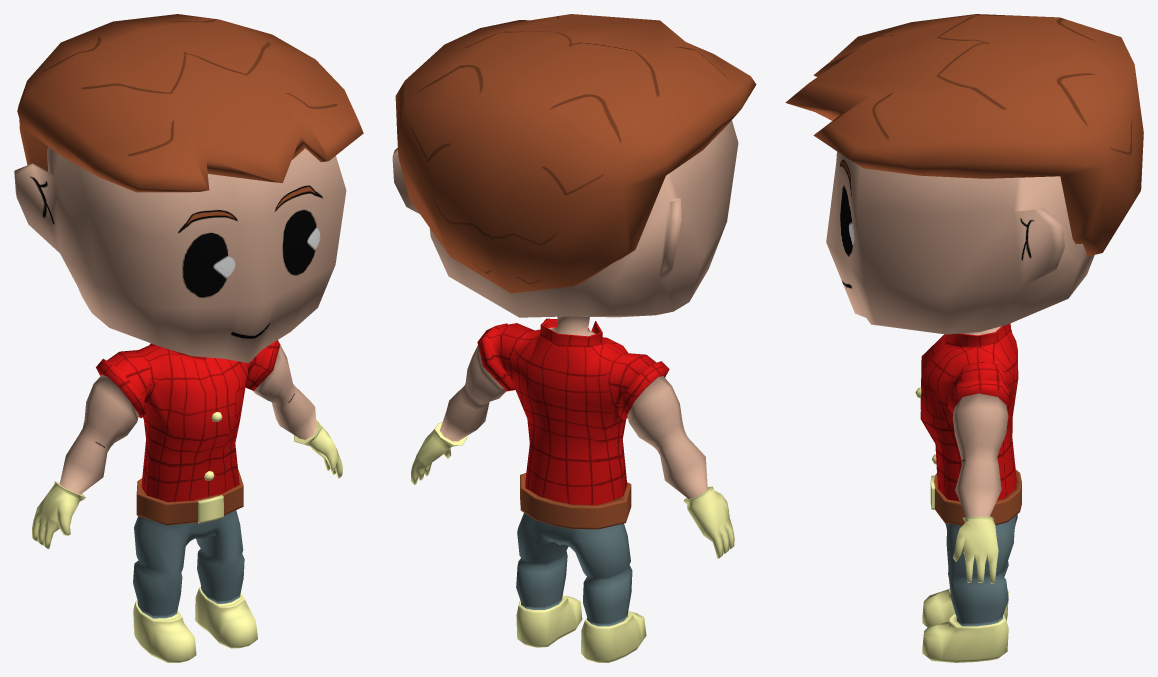
Rendered from Brock_Choi v8.fbx.
The picture shows the model from 3 angles, left to right: view 1: azimuth 30°, elevation 25°; view 2: azimuth 150°, elevation 25°; view 3: azimuth 270°, elevation 25°; orthographic projection. The views are drawn at different scales.
Parts seen in each view (by area): view 1: Brock.Choi.003; view 2: Brock.Choi.003; view 3: Brock.Choi.003.
Part boxes in pixels (x1,y1,x2,y2): Brock.Choi.003: [14, 14, 363, 662]; Brock.Choi.003: [392, 14, 756, 662]; Brock.Choi.003: [785, 14, 1143, 662].
Size of the model in its own units: 308 by 575 by 313.
